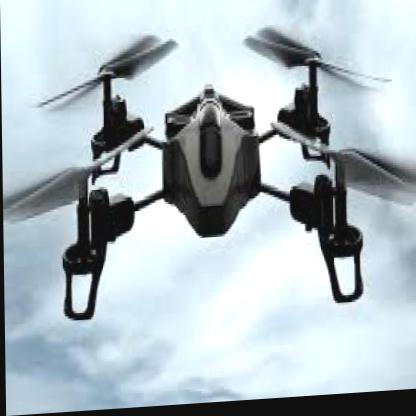UAS: (1, 22, 415, 325)
